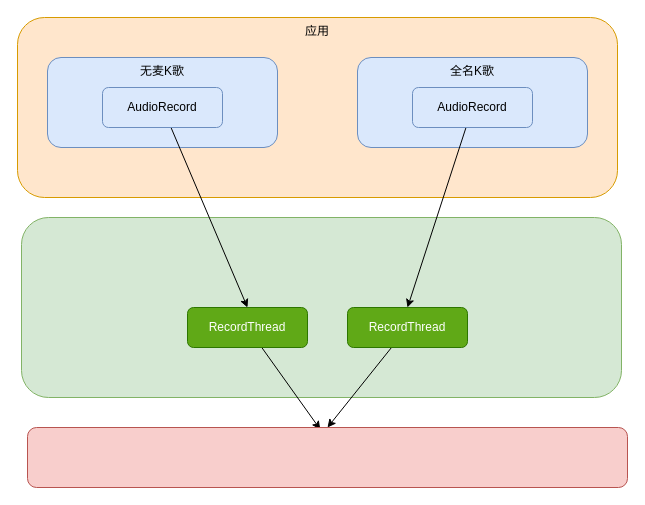
Some shapes in this 645 by 505 pixel diagram are drawn without their labels. The centre of each missing label's shape, as x and y in pixels:
AudioHAl: the point at 327,457
FrameWork: the point at 321,307
